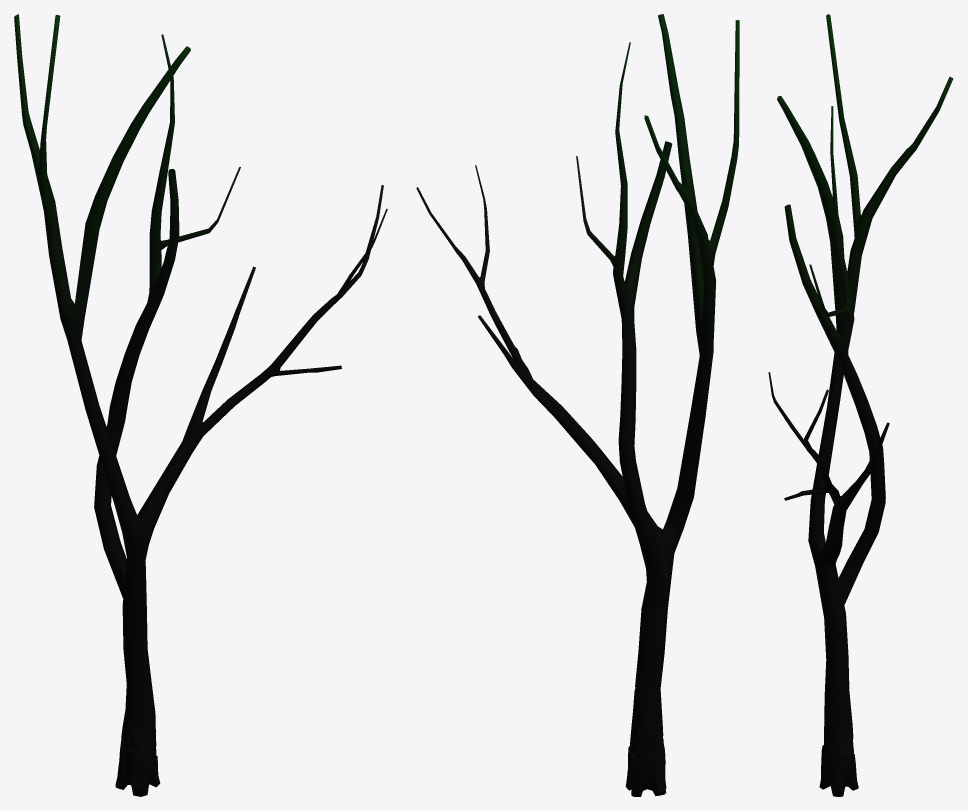
Rendered from TGV_Birch_Tree_Dry_02A.fbx.
3 renders of one model, left to right at view 1: azimuth 30°, elevation 25°; view 2: azimuth 150°, elevation 25°; view 3: azimuth 270°, elevation 25°, orthographic. The views are drawn at different scales.
Parts seen in each view (by area): view 1: TGV_Birch_Tree_Dry_02A_LOD0; view 2: TGV_Birch_Tree_Dry_02A_LOD0; view 3: TGV_Birch_Tree_Dry_02A_LOD0.
Boxes of the visible parts, x1=… form: TGV_Birch_Tree_Dry_02A_LOD0: x1=14, y1=14, x2=387, y2=796; TGV_Birch_Tree_Dry_02A_LOD0: x1=416, y1=14, x2=739, y2=796; TGV_Birch_Tree_Dry_02A_LOD0: x1=768, y1=14, x2=953, y2=796.
Size of the model in its own units: 569 by 1299 by 296.
